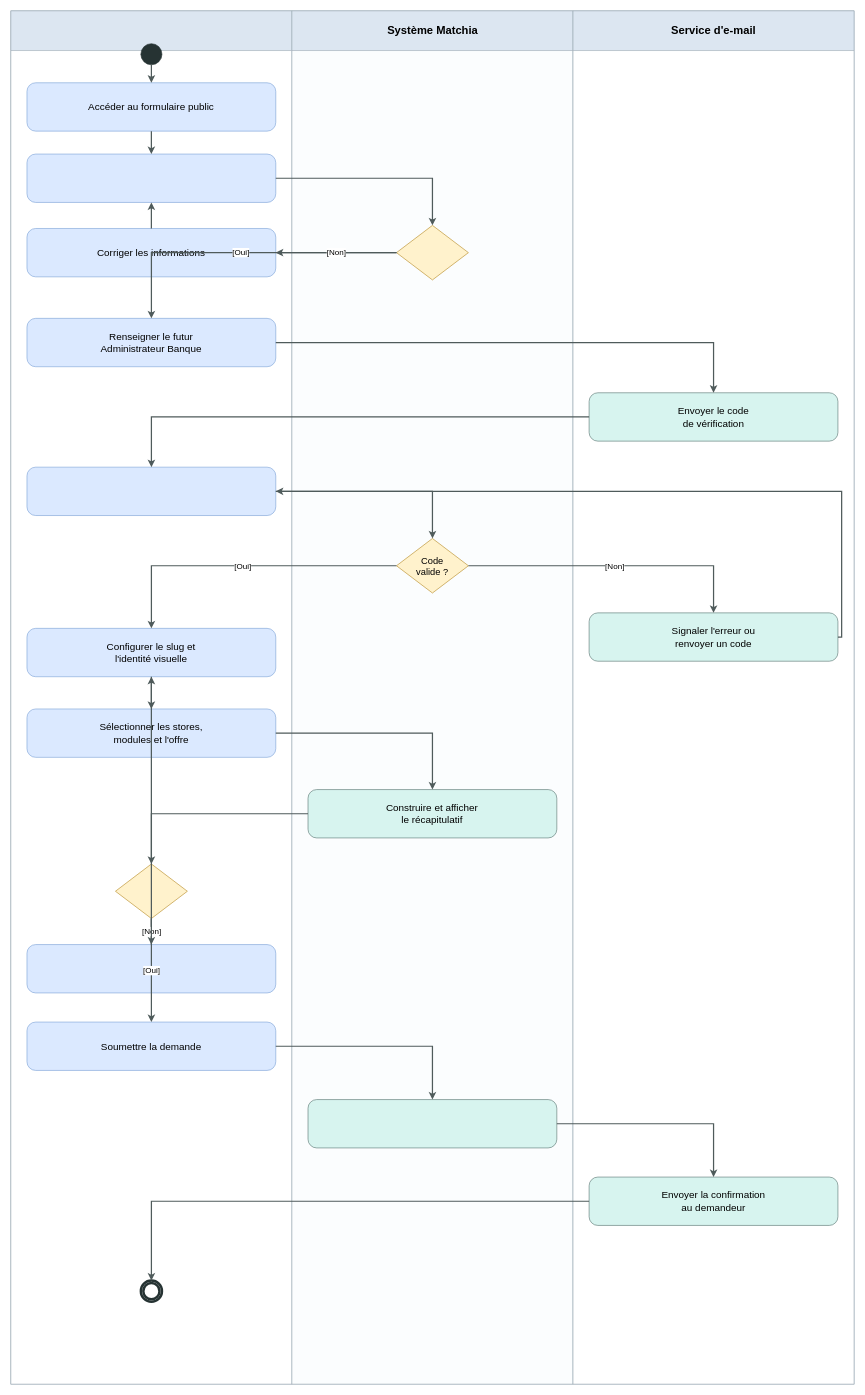
Image size: 865x1395. Some labels were removed from this diagram. The box of each missing label's shape, as (x1, y1, x2, y2) in pixels:
Confirmer la demande ?: (115, 863, 187, 919)
Données complètes ?: (396, 225, 468, 280)
Enregistrer la demande et notifier le Back-office SaaS: (307, 1099, 557, 1148)
Internaute: (10, 10, 292, 1384)
Modifier la configuration: (26, 944, 276, 993)
Renseigner les informations de la banque: (26, 153, 276, 202)
Saisir le code reçu: (26, 467, 276, 516)
